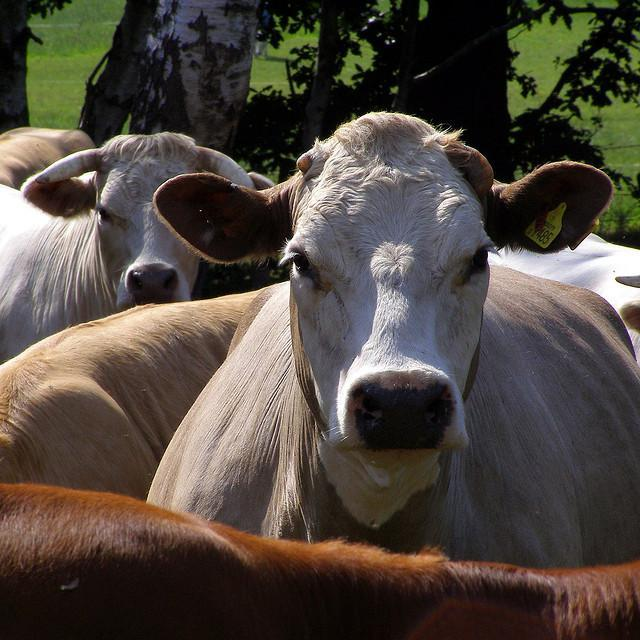cow: (139, 104, 639, 569), (1, 483, 639, 630), (0, 123, 250, 351), (0, 287, 263, 503), (492, 230, 639, 364), (0, 122, 92, 186)
